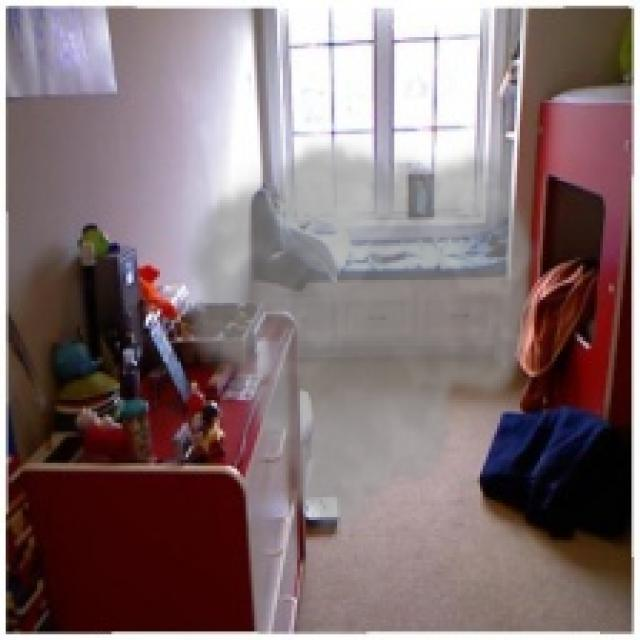smoke: (174, 137, 543, 543)
